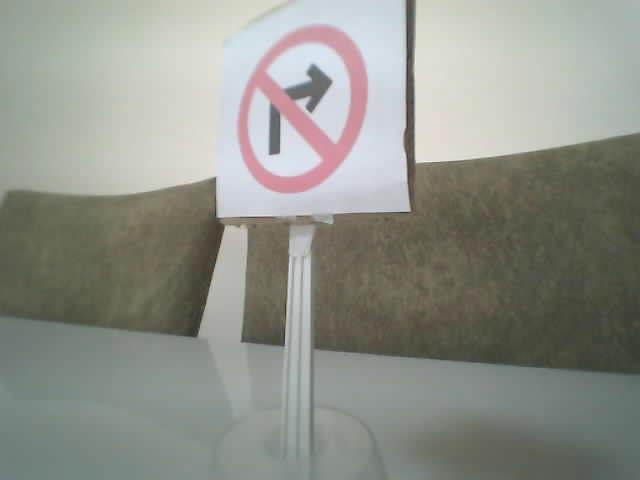R-4b_proibido-direita: (237, 24, 366, 192)
